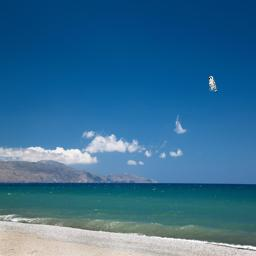Sparrow: (209, 76, 217, 92)
